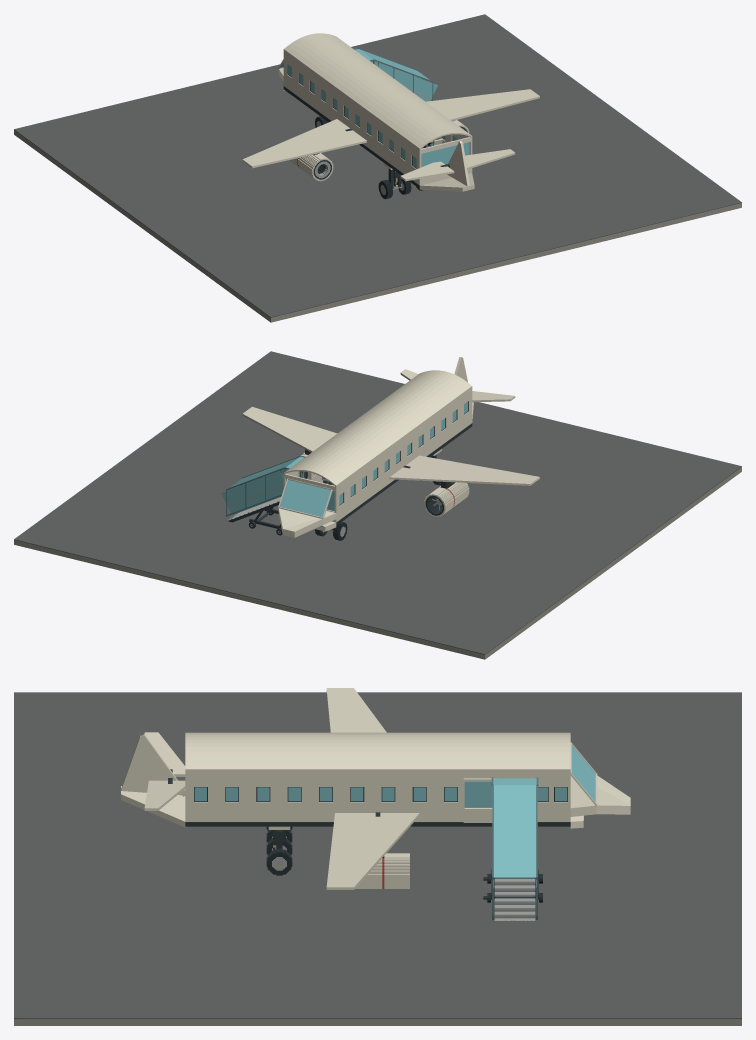
3 renders of one model, top to bottom at view 1: azimuth 30°, elevation 25°; view 2: azimuth 150°, elevation 25°; view 3: azimuth 270°, elevation 25°, orthographic. The views are drawn at different scales.
Parts seen in each view (by area): view 1: 石铺面与混凝土承板, 独立乘舱壳、真实窗封和常开侧舱口, 连续后掠翼及薄翼缘 (×2), 可移动封闭登机梯、独立轮脚及连续玻璃雨棚, 连续收尖机鼻、尾锥和实体垂尾, 公共客机发动机/推力体组件, 公共客机起落架与轮组; view 2: 石铺面与混凝土承板, 独立乘舱壳、真实窗封和常开侧舱口, 连续后掠翼及薄翼缘 (×2), 可移动封闭登机梯、独立轮脚及连续玻璃雨棚, 连续收尖机鼻、尾锥和实体垂尾, 公共客机发动机/推力体组件; view 3: 石铺面与混凝土承板, 独立乘舱壳、真实窗封和常开侧舱口, 连续后掠翼及薄翼缘 (×2), 可移动封闭登机梯、独立轮脚及连续玻璃雨棚, 连续收尖机鼻、尾锥和实体垂尾, 公共客机发动机/推力体组件, 公共客机起落架与轮组.
Boxes of the visible parts, x1,y1,x2,y2 form: 石铺面与混凝土承板: (14,14,741,322); 独立乘舱壳、真实窗封和常开侧舱口: (283,33,472,188); 连续后掠翼及薄翼缘 (×2): (242,89,539,181); 可移动封闭登机梯、独立轮脚及连续玻璃雨棚: (354,48,437,101); 连续收尖机鼻、尾锥和实体垂尾: (278,59,474,191); 公共客机发动机/推力体组件: (289,153,333,181); 公共客机起落架与轮组: (378,162,411,199); 石铺面与混凝土承板: (14,351,741,659); 独立乘舱壳、真实窗封和常开侧舱口: (283,370,472,525); 连续后掠翼及薄翼缘 (×2): (242,369,539,485); 可移动封闭登机梯、独立轮脚及连续玻璃雨棚: (221,455,305,535); 连续收尖机鼻、尾锥和实体垂尾: (278,357,473,537); 公共客机发动机/推力体组件: (424,481,469,517); 石铺面与混凝土承板: (14,692,741,1025); 独立乘舱壳、真实窗封和常开侧舱口: (185,732,570,826); 连续后掠翼及薄翼缘 (×2): (144,688,419,889); 可移动封闭登机梯、独立轮脚及连续玻璃雨棚: (483,777,542,920); 连续收尖机鼻、尾锥和实体垂尾: (121,734,630,827); 公共客机发动机/推力体组件: (355,853,409,888); 公共客机起落架与轮组: (266,826,292,875).
Bounding box in the file's own units: 36 × 6.61 × 34.
Materials: 20 (20 with a texture image).
